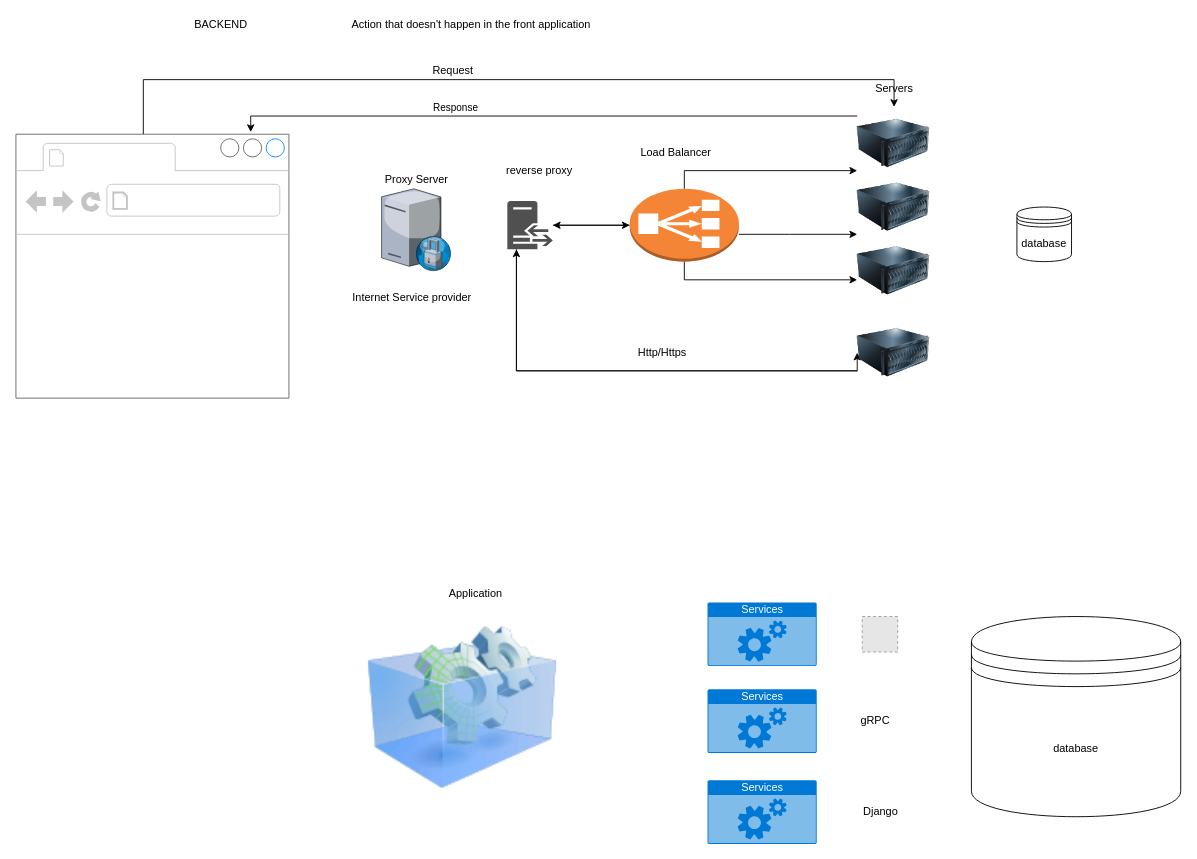
Some shapes in this 1197 by 859 pixel diagram are drawn without their labels. Grey dashed boxes stand in for pictures. The centre of each missing label's shape, as x and y in pixels:
"https://browser.com" belongs at [247,200].
"Page 1" belongs at [120,156].
